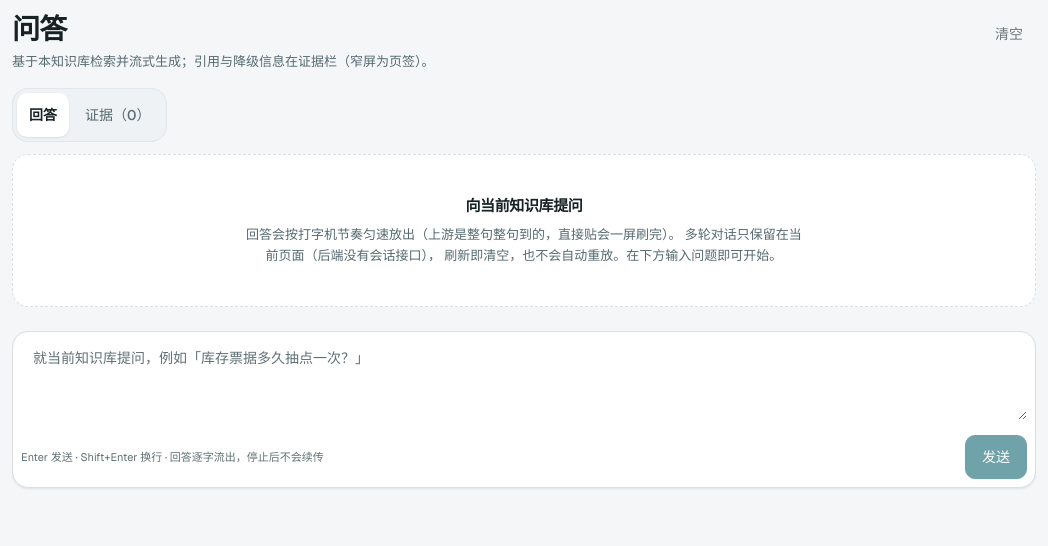
features/chat/ChatScreen › 建流前 503：把后端错误信封原样展示，且不标'不完整'、不进入流式态
The image size is (1048, 546).
Type "电源怎么接？" into the text box named "问题" at (524, 380), box [21,340,1027,420]
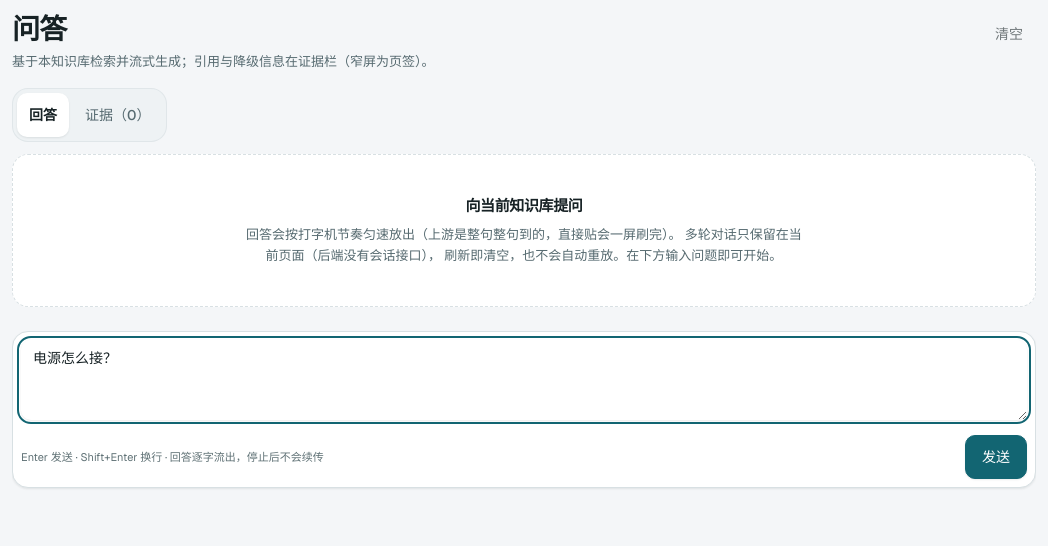
Click the button "发送" at (996, 457), box [965,435,1027,479]
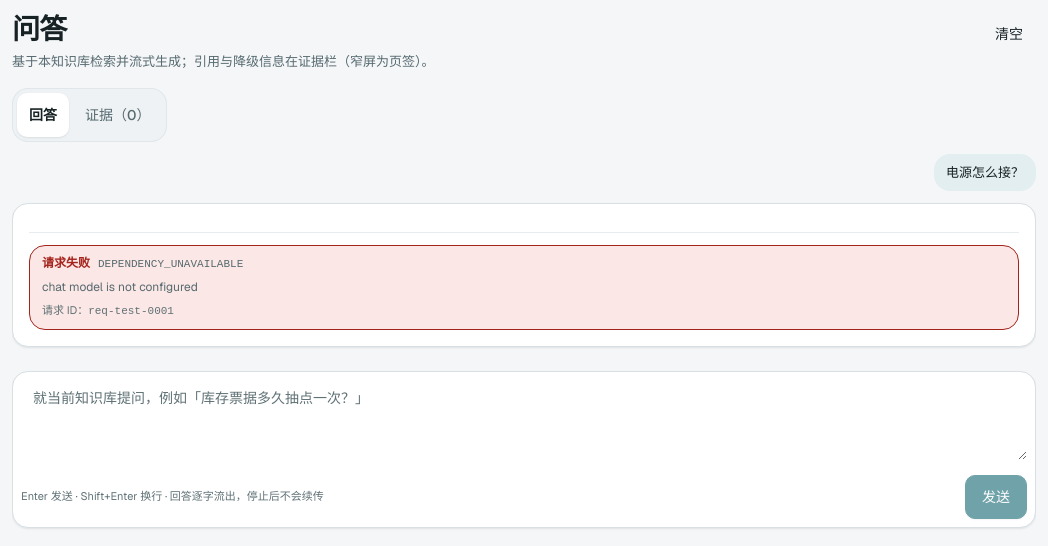
Expected: the button "发送" is shown, [965,474,1027,518]
Now the message shows "DEPENDENCY_UNAVAILABLE", box [98,258,243,270]
Now the message shows "chat model is not configured", box [42,279,198,295]
